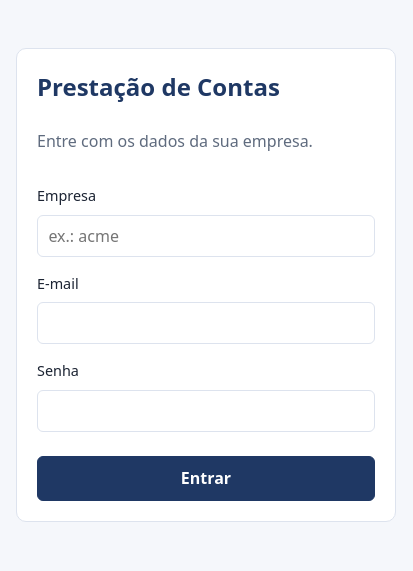
it: LoginPage › mostra o aviso de bloqueio por excesso de tentativas
In the field labelled "Empresa": coordinates (206, 236) [37, 215, 375, 257], type "acme"
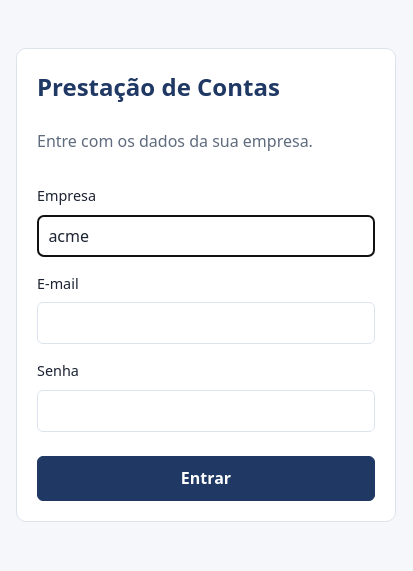
In the field labelled "E-mail": coordinates (206, 323) [37, 302, 375, 344], type "admin@acme.com.br"
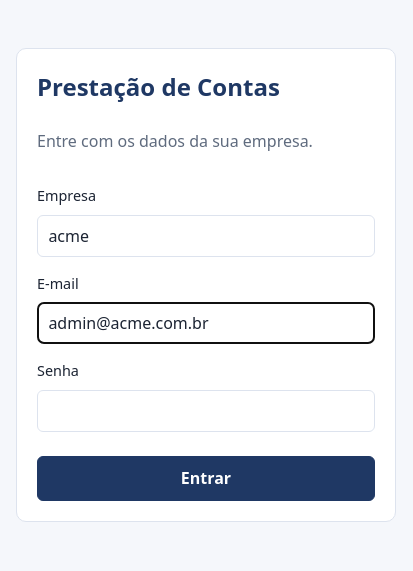
In the password field labelled "Senha": coordinates (206, 411) [37, 390, 375, 432], type "x"
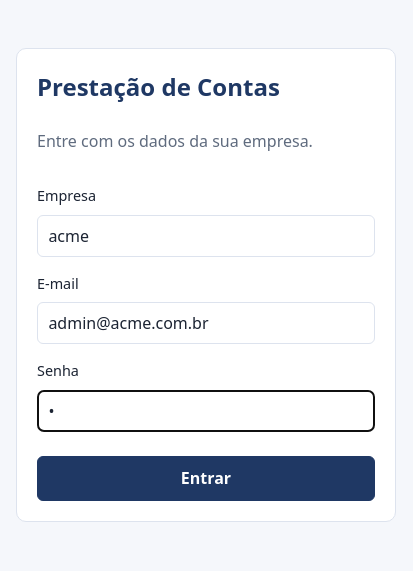
Click the button "Entrar": coordinates (206, 478) [37, 456, 375, 501]
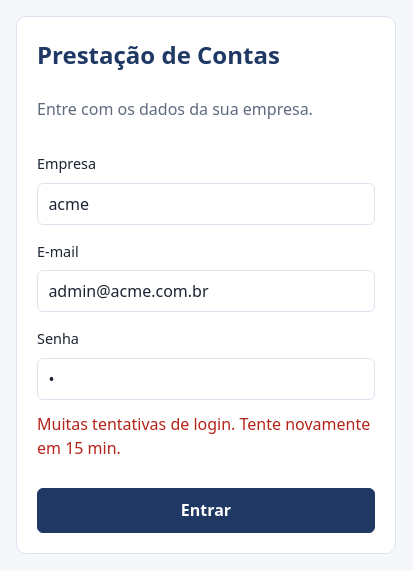
Result: the message shows "Tente novamente em 15 min" at [37, 413, 370, 459]
